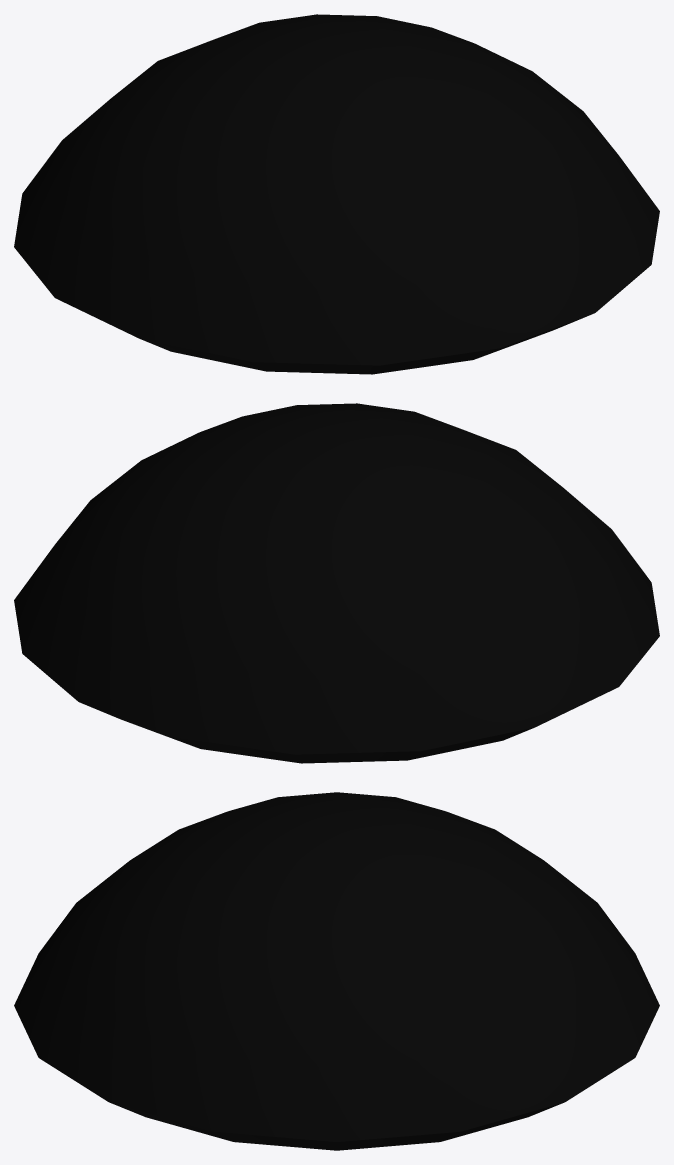
Rendered from Hair_15.fbx.
3 renders of one model, top to bottom at view 1: azimuth 30°, elevation 25°; view 2: azimuth 150°, elevation 25°; view 3: azimuth 270°, elevation 25°, orthographic.
Parts seen in each view (by area): view 1: Hair_15; view 2: Hair_15; view 3: Hair_15.
Boxes of the visible parts, <box> form: Hair_15: <box>14,14,659,374</box>; Hair_15: <box>14,403,659,763</box>; Hair_15: <box>14,792,659,1150</box>.
Size of the model in its own units: 105 by 37.82 by 105.
